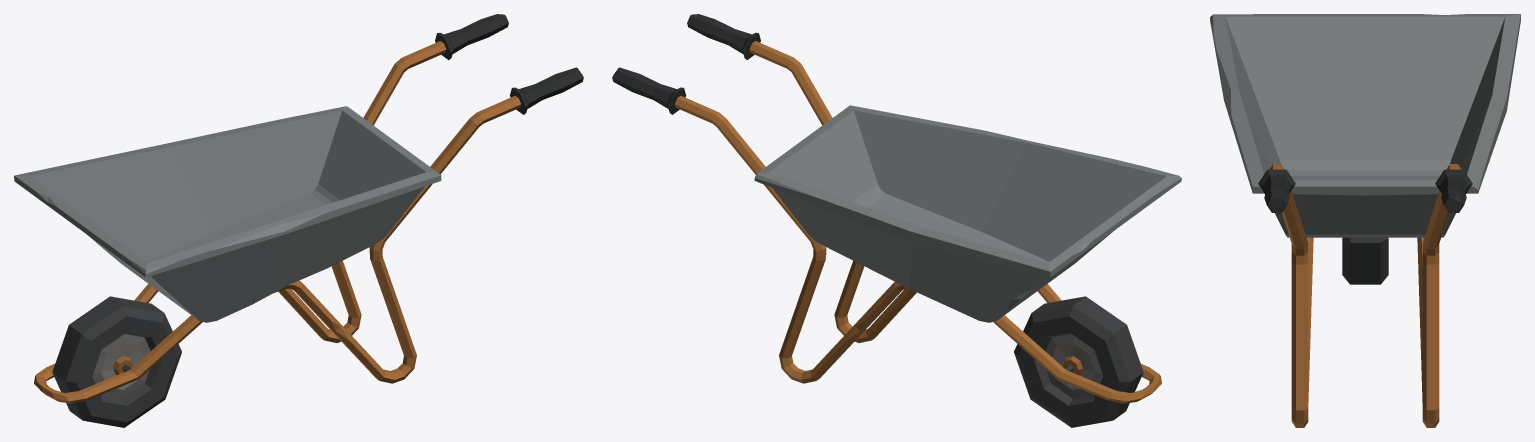
The model's file is SM_Props_Farm_Wheelbarrow_Steel.fbx.
3 views of the same model, side by side, from view 1: azimuth 30°, elevation 25°; view 2: azimuth 150°, elevation 25°; view 3: azimuth 270°, elevation 25° (orthographic). The views are drawn at different scales.
Visible parts, largest first — view 1: SM_Props_Farm_Wheelbarrow_Steel, SM_Props_Farm_Wheelbarrow_Steel_Wheel; view 2: SM_Props_Farm_Wheelbarrow_Steel, SM_Props_Farm_Wheelbarrow_Steel_Wheel; view 3: SM_Props_Farm_Wheelbarrow_Steel, SM_Props_Farm_Wheelbarrow_Steel_Wheel.
Part boxes in pixels (box(x1,y1,x2,y2)): SM_Props_Farm_Wheelbarrow_Steel: box(14, 14, 583, 403); SM_Props_Farm_Wheelbarrow_Steel_Wheel: box(52, 296, 181, 427); SM_Props_Farm_Wheelbarrow_Steel: box(612, 14, 1181, 403); SM_Props_Farm_Wheelbarrow_Steel_Wheel: box(1014, 296, 1143, 427); SM_Props_Farm_Wheelbarrow_Steel: box(1210, 14, 1520, 427); SM_Props_Farm_Wheelbarrow_Steel_Wheel: box(1342, 237, 1388, 284).
Size of the model in its own units: 182 by 96.73 by 82.81.
